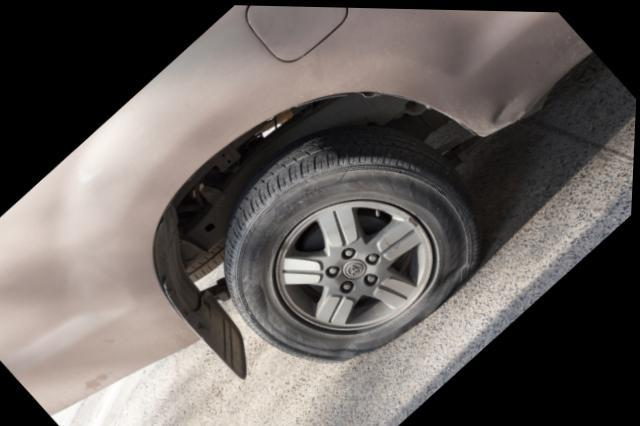dent: (0, 238, 132, 375), (491, 90, 521, 121)
tire flat: (225, 122, 488, 362)
